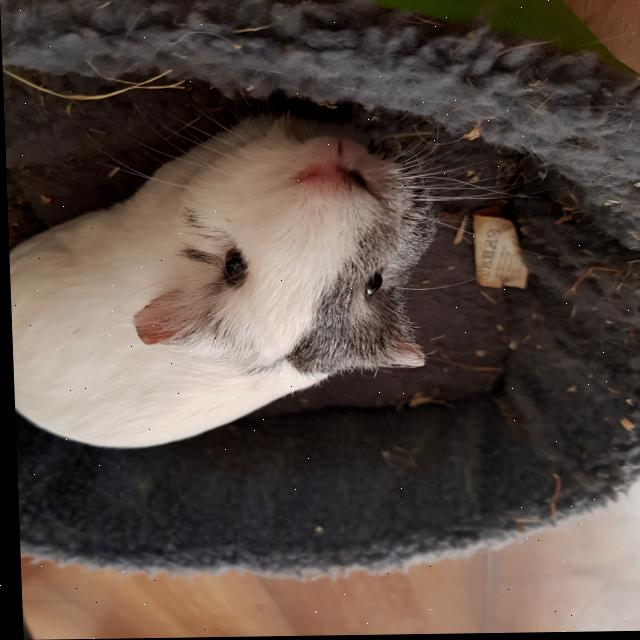guinea pig: (3, 108, 456, 453)
